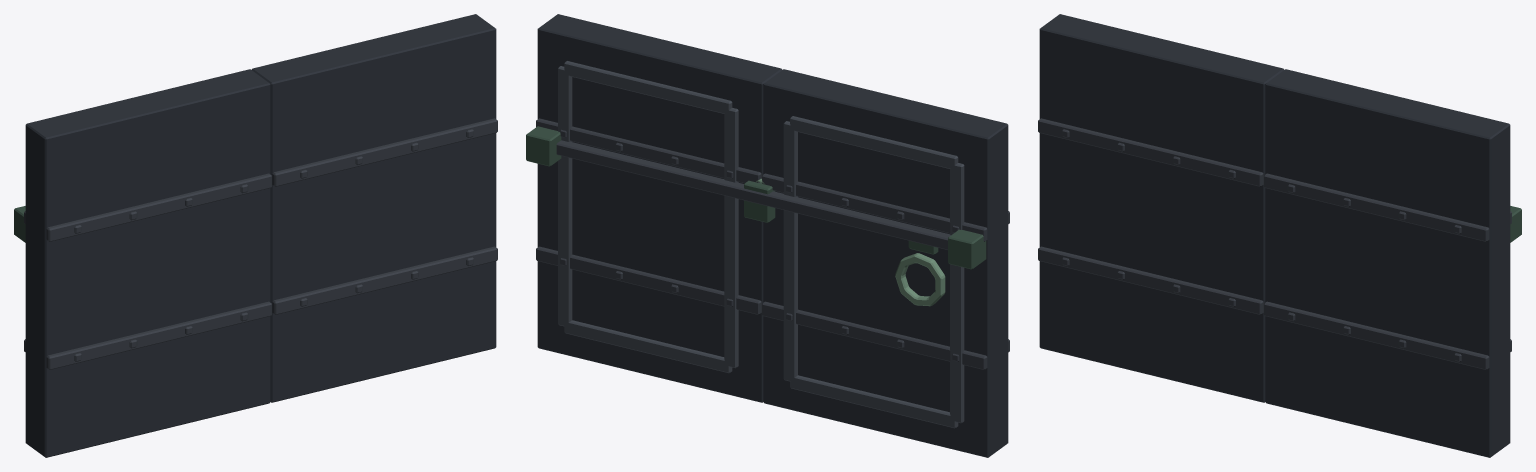
File: 双扇石门.glb
3 views of the same model, side by side, from view 1: azimuth 30°, elevation 25°; view 2: azimuth 150°, elevation 25°; view 3: azimuth 330°, elevation 25° (orthographic).
Parts seen in each view (by area): view 1: PT-door_stone, PT-iron; view 2: PT-door_stone, PT-ancient_mid, PT-iron, PT-bronze_dark, PT-bronze; view 3: PT-door_stone, PT-iron.
Boxes of the visible parts, x1,y1,x2,y2 form: PT-door_stone: (25, 14, 496, 457); PT-iron: (24, 118, 497, 369); PT-door_stone: (537, 14, 1008, 457); PT-ancient_mid: (558, 61, 964, 428); PT-iron: (536, 118, 1009, 369); PT-bronze_dark: (526, 126, 986, 269); PT-bronze: (756, 178, 945, 306); PT-door_stone: (1039, 14, 1510, 457); PT-iron: (1038, 118, 1511, 369).
Size of the model in its own units: 3.04 by 2.06 by 0.443.
